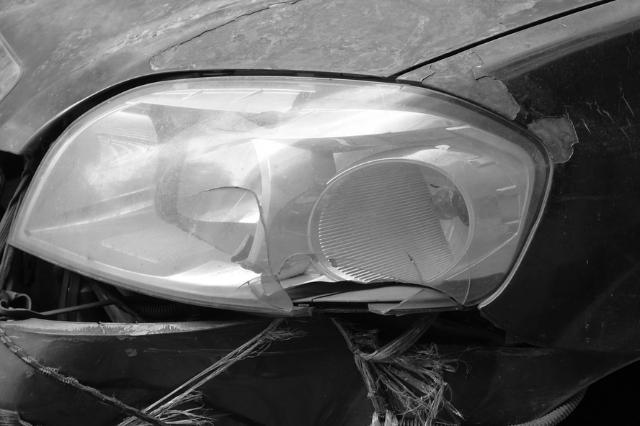Bumper: (13, 301, 638, 426)
Fender: (432, 60, 640, 156)
Light: (35, 88, 525, 322)
